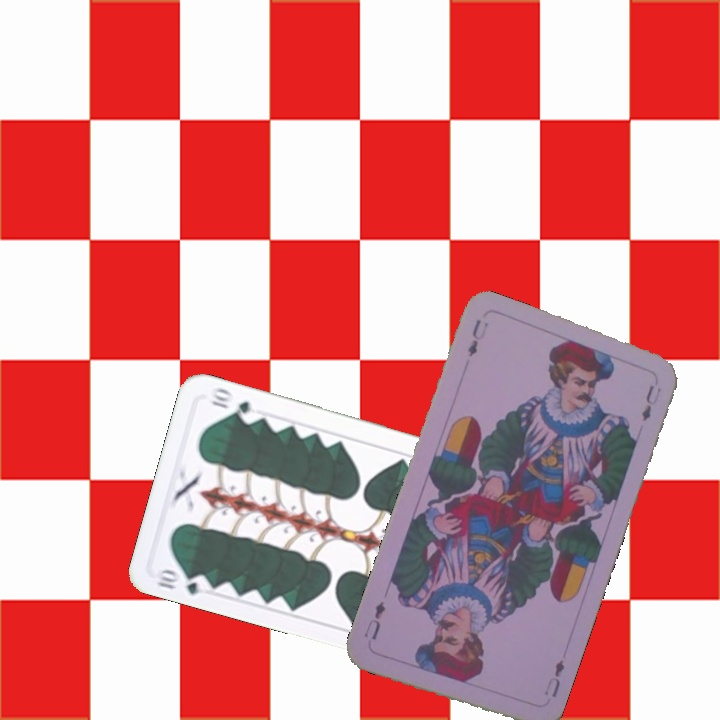EU: (463, 315, 491, 360), (541, 655, 567, 700)
G10: (152, 565, 212, 598)
